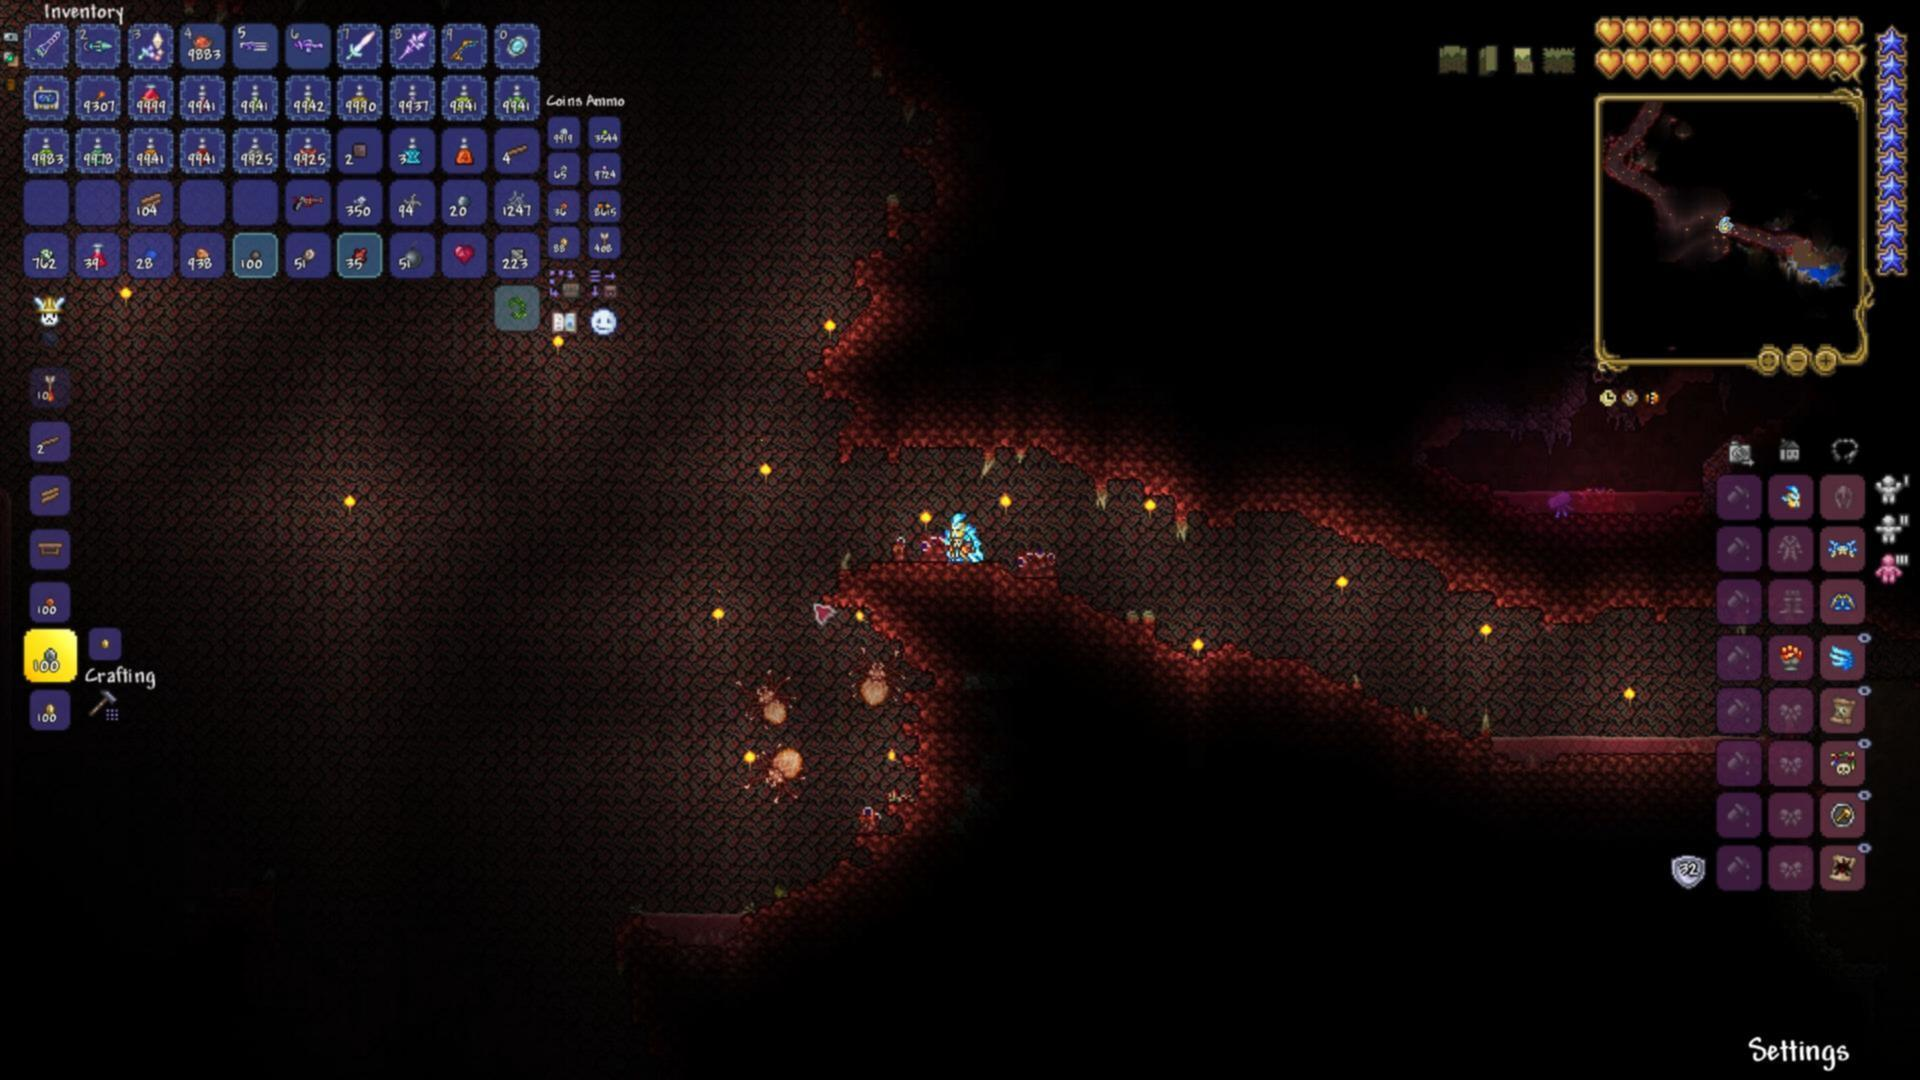altar: (1011, 545, 1060, 578), (1573, 481, 1623, 512), (922, 531, 952, 560)
cobwebI: (501, 187, 533, 211)
gel: (140, 241, 160, 265)
lifeC: (451, 237, 479, 270)
mirror: (505, 32, 529, 58)
spider: (843, 640, 916, 709), (728, 665, 803, 731), (756, 737, 808, 802)
